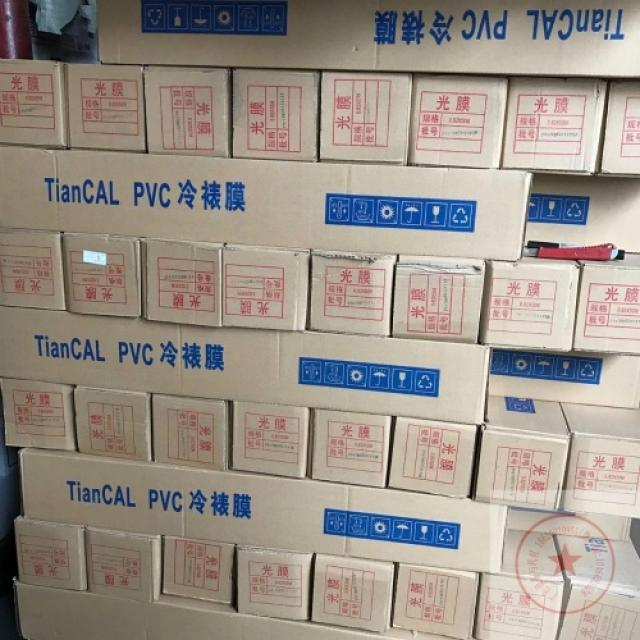box: (0, 145, 531, 263), (23, 448, 508, 573), (0, 306, 489, 428), (95, 1, 639, 76), (15, 577, 463, 638), (474, 396, 572, 510), (500, 76, 611, 176), (520, 172, 639, 261), (476, 527, 565, 639), (408, 74, 511, 170), (489, 346, 639, 411), (478, 259, 580, 354), (560, 402, 639, 518), (554, 535, 639, 638), (231, 67, 322, 162), (321, 71, 412, 166), (144, 65, 231, 158), (391, 255, 484, 342), (221, 243, 310, 332), (310, 250, 399, 337), (387, 418, 479, 500), (142, 238, 223, 328), (65, 64, 148, 151), (391, 562, 480, 639), (61, 233, 142, 317), (311, 555, 396, 635), (309, 410, 394, 488), (574, 253, 639, 353), (236, 544, 314, 624), (150, 394, 229, 470), (0, 60, 69, 146), (231, 404, 311, 478), (74, 386, 150, 461), (0, 227, 68, 310), (86, 526, 163, 599), (2, 379, 78, 451), (16, 517, 87, 591), (162, 535, 237, 604), (506, 508, 631, 543), (596, 77, 639, 178)
